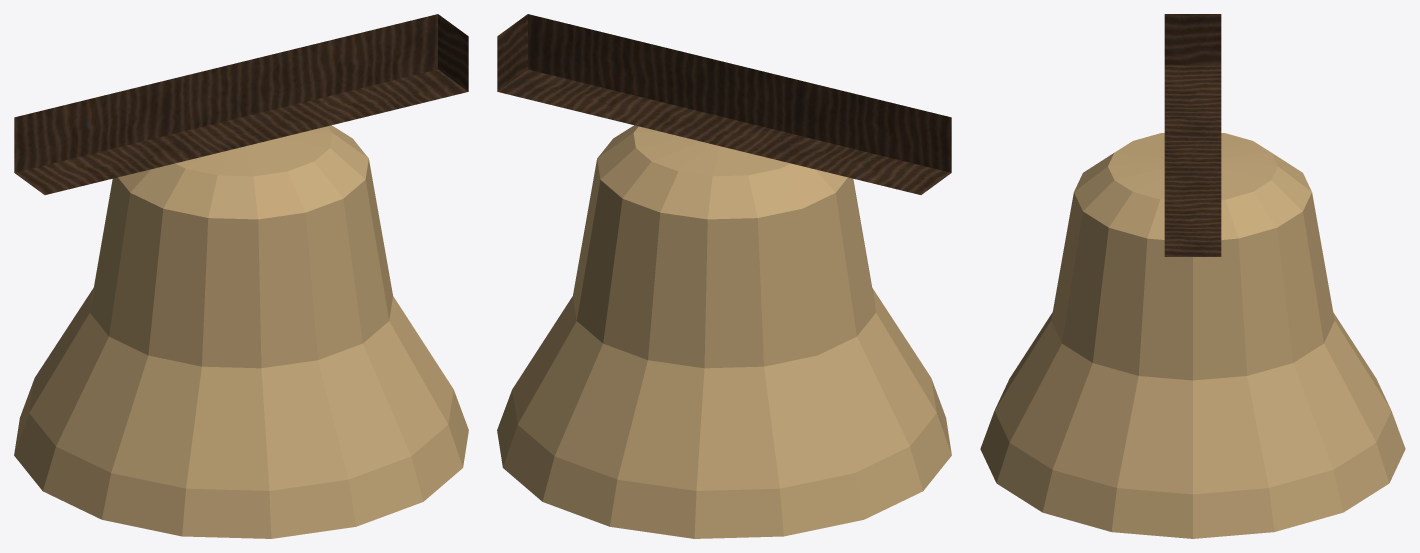
Rendered from bv_bell.glb.
3 views of the same model, side by side, from view 1: azimuth 30°, elevation 25°; view 2: azimuth 150°, elevation 25°; view 3: azimuth 270°, elevation 25° (orthographic). The views are drawn at different scales.
Visible parts, largest first — view 1: bronze, timber; view 2: bronze, timber; view 3: bronze, timber.
Part boxes in pixels (bbox=[...]): bronze: bbox=[14, 125, 468, 538]; timber: bbox=[14, 14, 468, 194]; bronze: bbox=[497, 125, 951, 538]; timber: bbox=[497, 14, 951, 194]; bronze: bbox=[980, 133, 1405, 538]; timber: bbox=[1164, 14, 1221, 256].
Bounding box in the file's own units: 1.6 × 1.32 × 1.5.
Materials: 2 (1 with a texture image).
